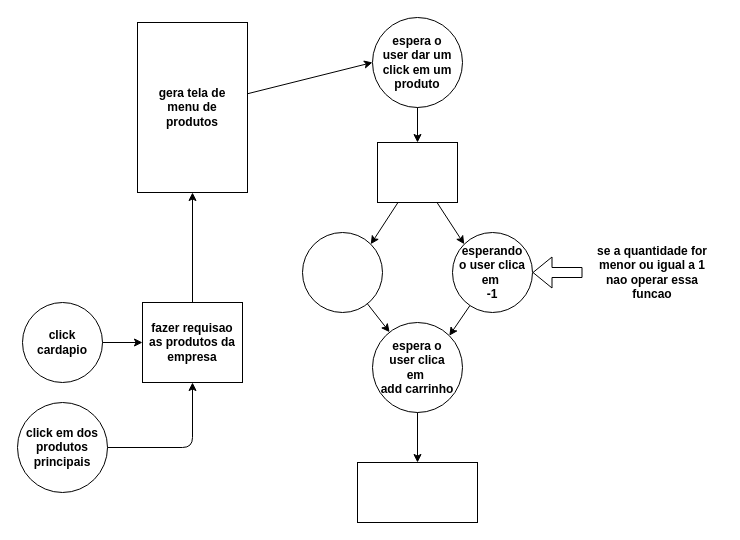
Some shapes in this 740 by 540 pixel diagram are drawn without their labels. Here are the shapes that lost their labels. From the top down, the centre of each, then its label:
point (417, 172): mostra tela de detalhes
point (342, 272): esperando o user clica em +1
point (417, 492): adicionar o produto ao um array de produtos escolhidos
